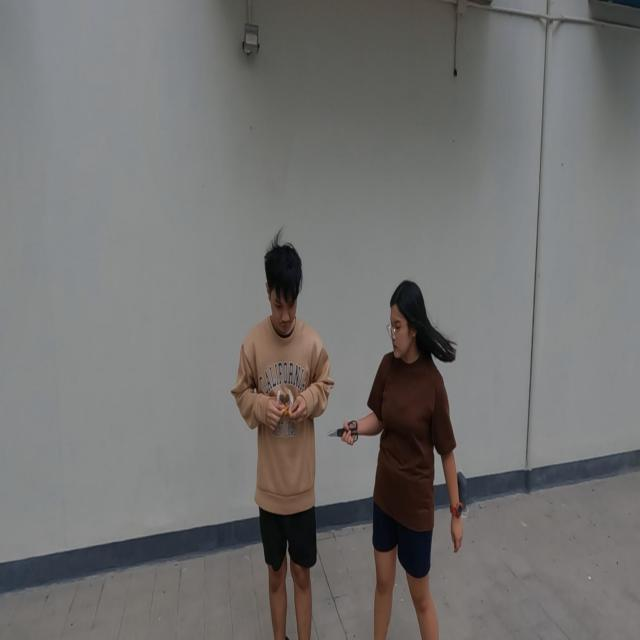scissor: (328, 418, 358, 445)
